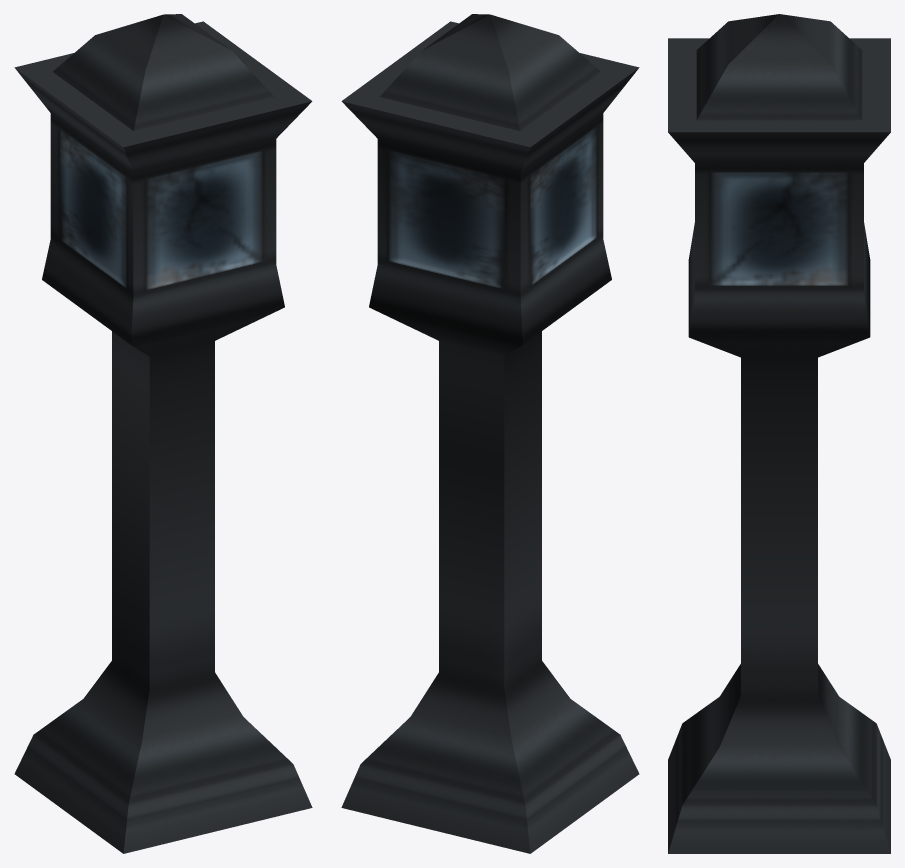
File: Building03_light.FBX
The picture shows the model from 3 angles, left to right: view 1: azimuth 30°, elevation 25°; view 2: azimuth 150°, elevation 25°; view 3: azimuth 270°, elevation 25°; orthographic projection. The views are drawn at different scales.
Parts seen in each view (by area): view 1: Streetlight; view 2: Streetlight; view 3: Streetlight.
Part boxes in pixels (x1=…): Streetlight: x1=14, y1=14, x2=312, y2=853; Streetlight: x1=341, y1=14, x2=639, y2=853; Streetlight: x1=668, y1=14, x2=890, y2=853.
Size of the model in its own units: 0.7 by 2.75 by 0.7.
